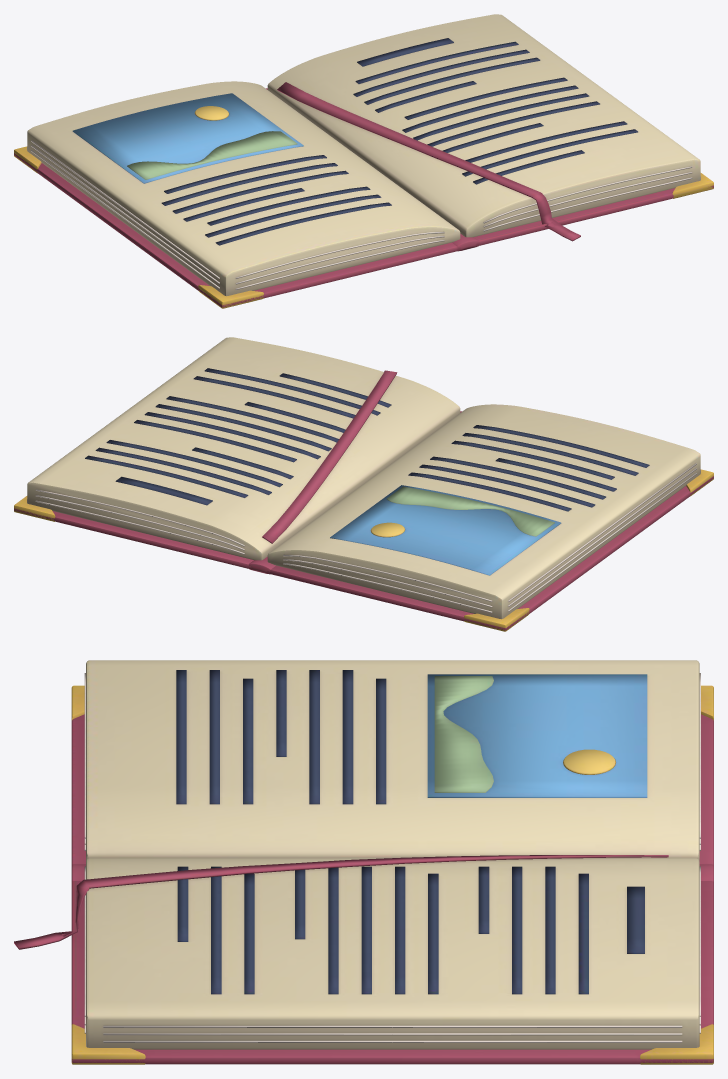
File: open-book.glb
3 views of the same model, one above another, from view 1: azimuth 30°, elevation 25°; view 2: azimuth 150°, elevation 25°; view 3: azimuth 270°, elevation 25° (orthographic). The views are drawn at different scales.
Parts seen in each view (by area): view 1: open-book_body; view 2: open-book_body; view 3: open-book_body.
Boxes of the visible parts, x1,y1,x2,y2 form: open-book_body: [14, 14, 713, 308]; open-book_body: [14, 337, 713, 631]; open-book_body: [14, 660, 713, 1064].
Size of the model in its own units: 0.302 by 0.0207 by 0.2419.
Materials: 1 (1 with a texture image).
